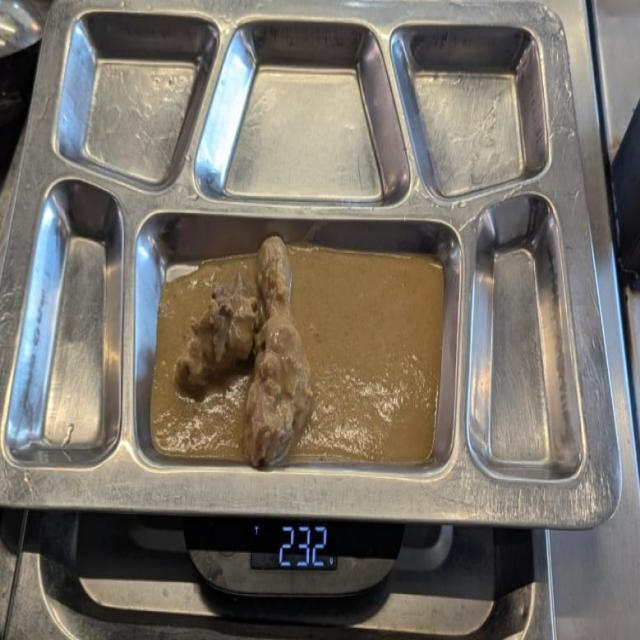Chicken Curry: (152, 242, 442, 470)
